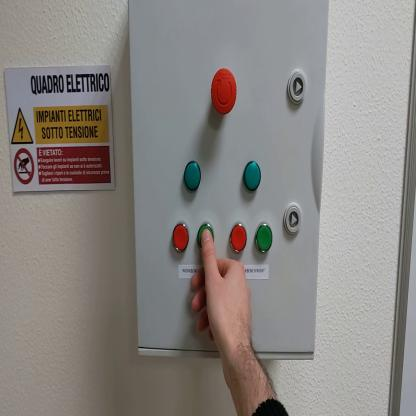hand: (191, 229, 256, 385)
left green button: (197, 224, 216, 249)
left red button: (172, 225, 190, 254)
right green button: (256, 222, 272, 252)
right red button: (231, 223, 249, 253)
